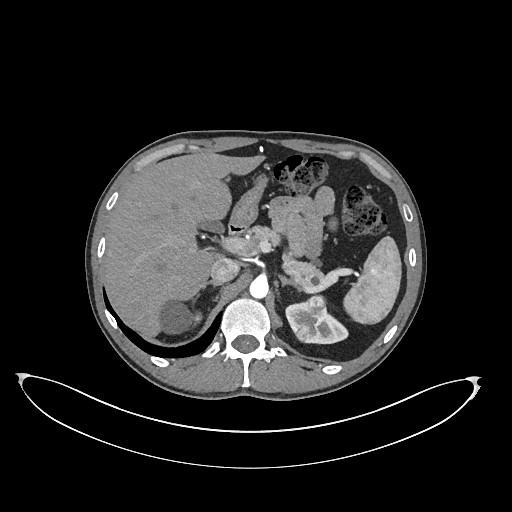Lesion: (296, 325, 305, 342)
